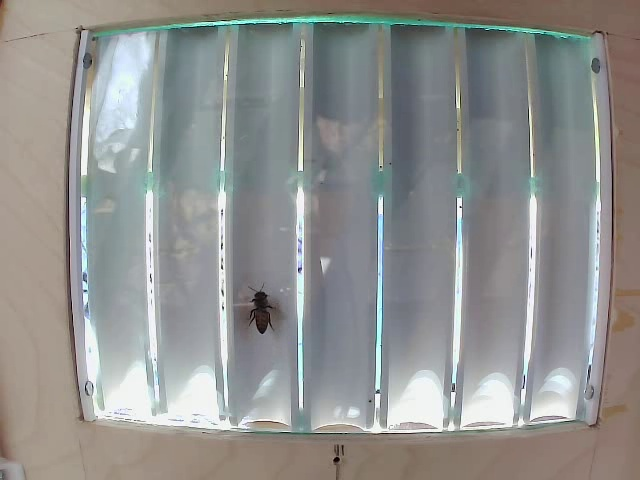bee: (247, 273, 286, 327)
